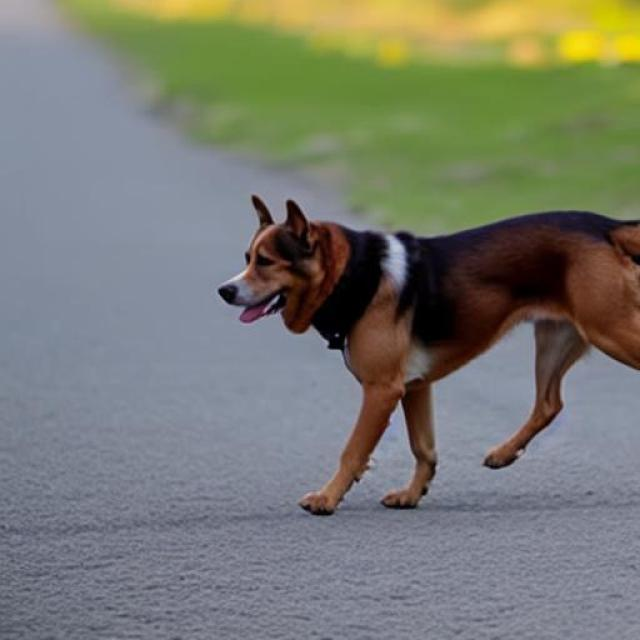Dog: (219, 193, 640, 516)
